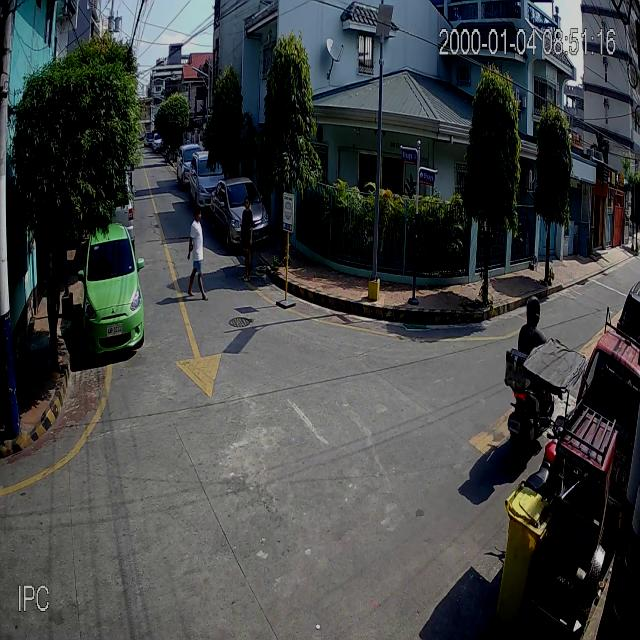standing: (239, 195, 255, 282)
walking: (187, 204, 210, 300)
